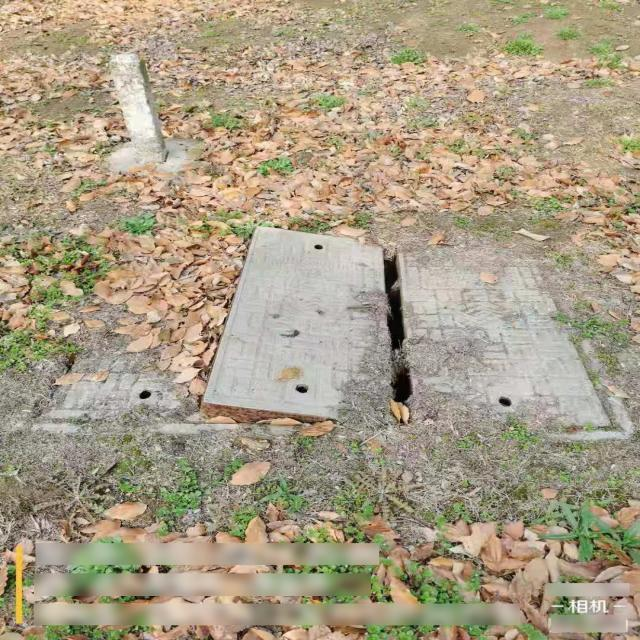Faulty: (11, 225, 630, 441)
